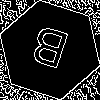B: (25, 25, 72, 78)
